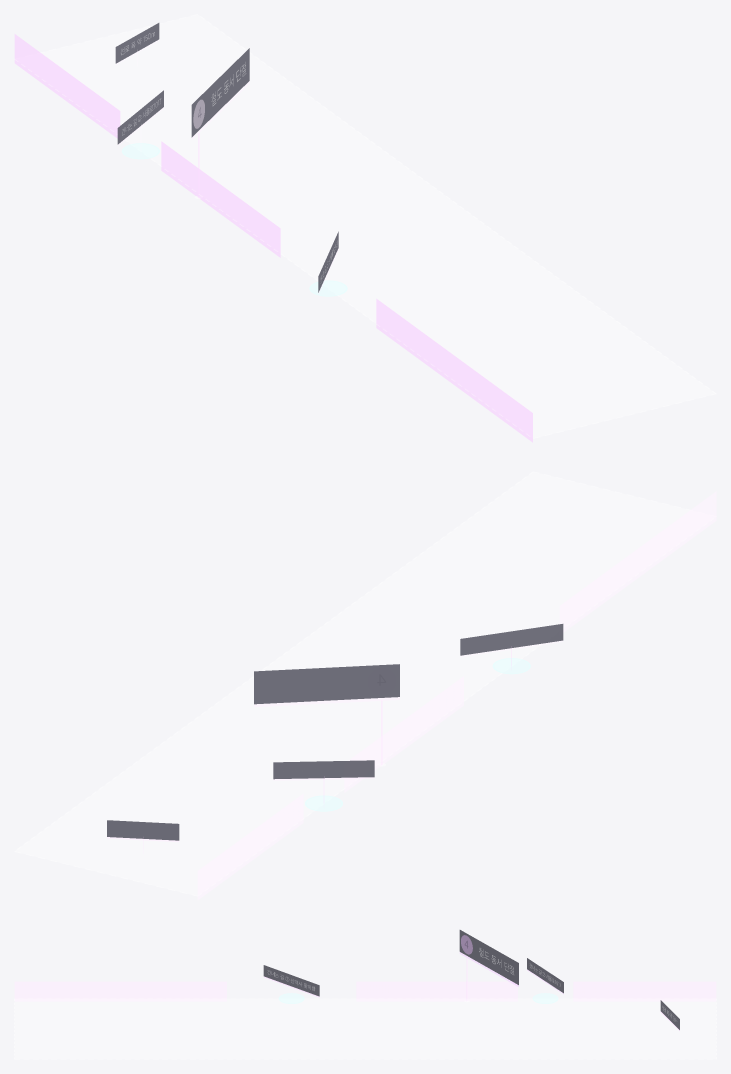
The picture shows the model from 3 angles, top to bottom: view 1: azimuth 30°, elevation 25°; view 2: azimuth 150°, elevation 25°; view 3: azimuth 270°, elevation 25°; orthographic projection. The views are drawn at different scales.
Visible parts, largest first — view 1: P4_Band, P4_Fence_S, P4_Fence_M, P4_Fence_N, P4_Plate, P4_Outline, PS_4_7_Plate, PS_4_8_Plate; view 2: P4_Band, P4_Plate, P4_Fence_S, P4_Fence_N, P4_Fence_M, PS_4_6_Plate, PS_4_7_Plate, PS_4_8_Plate, P4_Outline; view 3: P4_Band, P4_Fence_S, P4_Fence_M, P4_Fence_N, P4_Plate, PS_4_6_Plate, P4_Outline, PS_4_7_Plate, PS_4_8_Plate.
Part boxes in pixels (bbox=[...]): P4_Band: bbox=[17, 15, 714, 437]; P4_Fence_S: bbox=[376, 299, 532, 442]; P4_Fence_M: bbox=[161, 141, 280, 257]; P4_Fence_N: bbox=[14, 34, 120, 138]; P4_Plate: bbox=[191, 48, 249, 137]; P4_Outline: bbox=[14, 14, 716, 438]; PS_4_7_Plate: bbox=[117, 90, 163, 144]; PS_4_8_Plate: bbox=[115, 23, 159, 63]; P4_Band: bbox=[15, 472, 713, 895]; P4_Plate: bbox=[254, 664, 399, 704]; P4_Fence_S: bbox=[559, 491, 716, 632]; P4_Fence_N: bbox=[197, 793, 303, 899]; P4_Fence_M: bbox=[344, 676, 463, 792]; PS_4_6_Plate: bbox=[460, 624, 563, 655]; PS_4_7_Plate: bbox=[273, 760, 374, 779]; PS_4_8_Plate: bbox=[107, 820, 179, 840]; P4_Outline: bbox=[14, 471, 713, 896]; P4_Band: bbox=[15, 999, 715, 1058]; P4_Fence_S: bbox=[14, 981, 226, 1001]; P4_Fence_M: bbox=[356, 981, 517, 1001]; P4_Fence_N: bbox=[573, 981, 716, 1001]; P4_Plate: bbox=[459, 930, 518, 984]; PS_4_6_Plate: bbox=[263, 965, 319, 996]; P4_Outline: bbox=[14, 998, 716, 1059]; PS_4_7_Plate: bbox=[527, 958, 563, 993]; PS_4_8_Plate: bbox=[660, 1000, 679, 1029].
Bounding box in the file's own units: 187 × 81.3 × 761.
